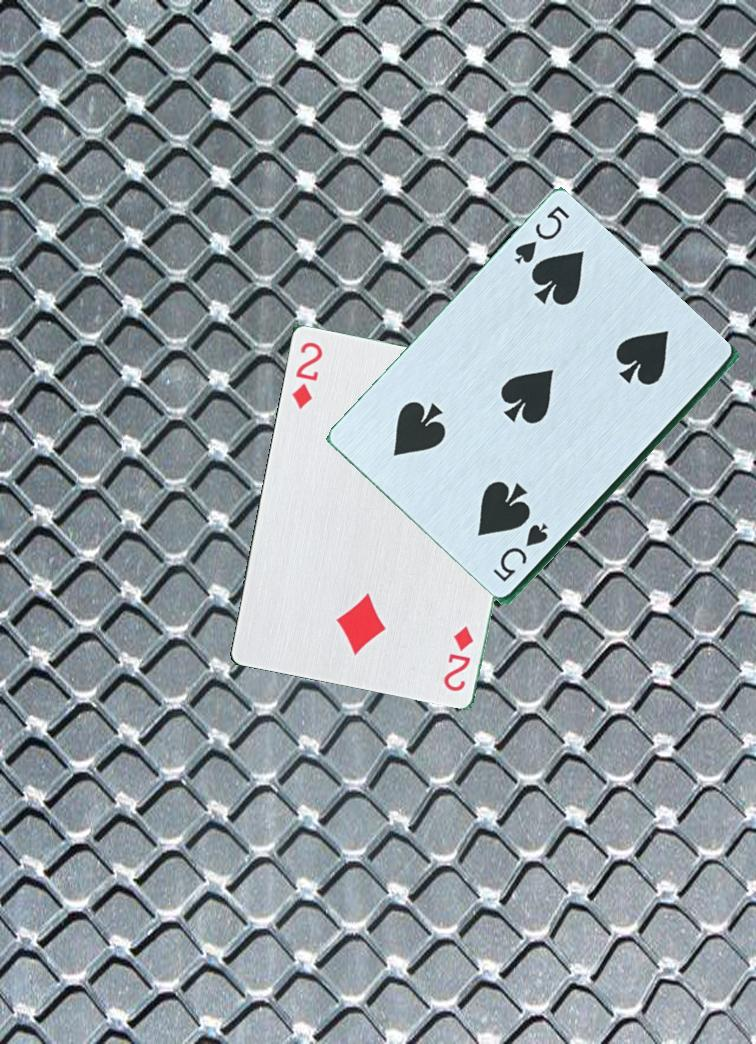2d: (438, 622, 477, 703), (289, 339, 326, 413)
5s: (511, 203, 580, 278), (490, 520, 551, 593)
